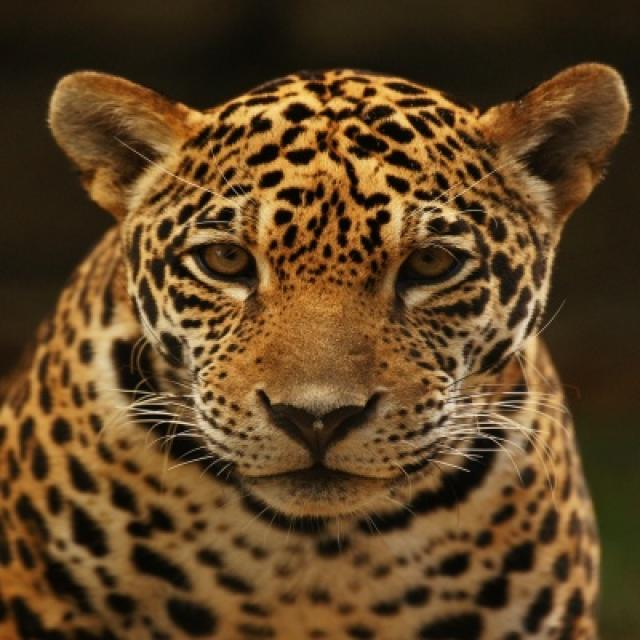Jaguar: (0, 61, 632, 638)
